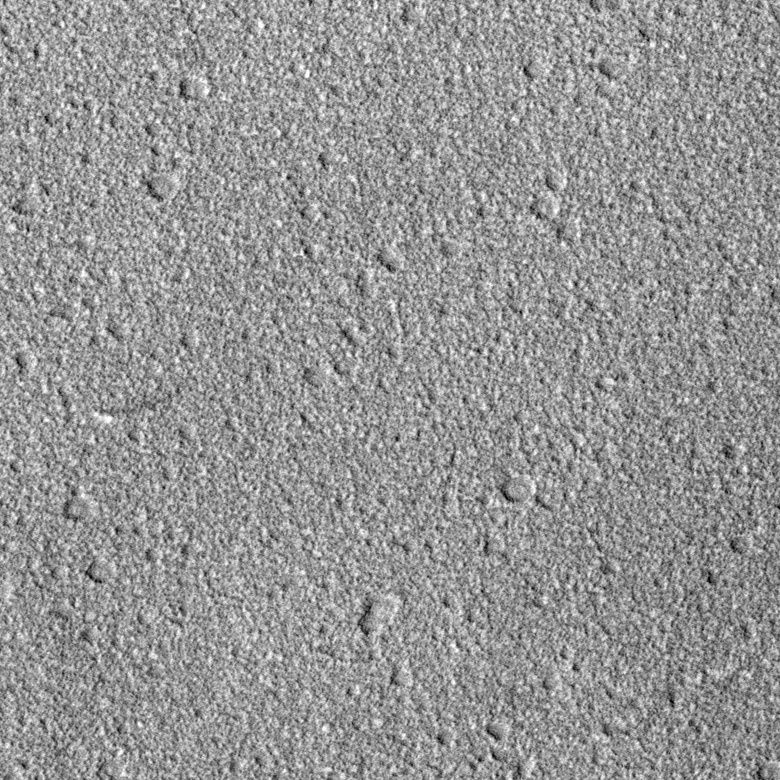dust_devil: (87, 389, 184, 426)
